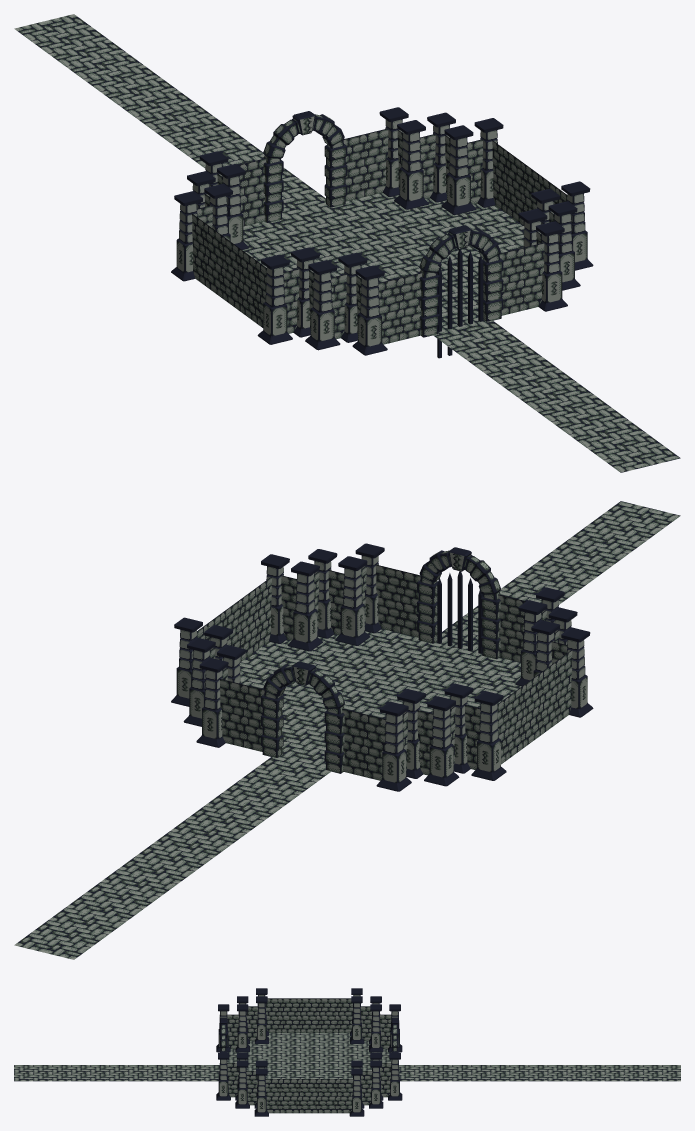
File: Level_Shop.fbx
The picture shows the model from 3 angles, top to bottom: view 1: azimuth 30°, elevation 25°; view 2: azimuth 150°, elevation 25°; view 3: azimuth 270°, elevation 25°; orthographic projection. The views are drawn at different scales.
Parts seen in each view (by area): view 1: Level_Shop; view 2: Level_Shop; view 3: Level_Shop.
Part boxes in pixels (x1,y1,x2,y2): Level_Shop: (14,14,680,472); Level_Shop: (14,501,680,959); Level_Shop: (14,988,680,1116).
Size of the model in its own units: 1616 by 590 by 5250.
